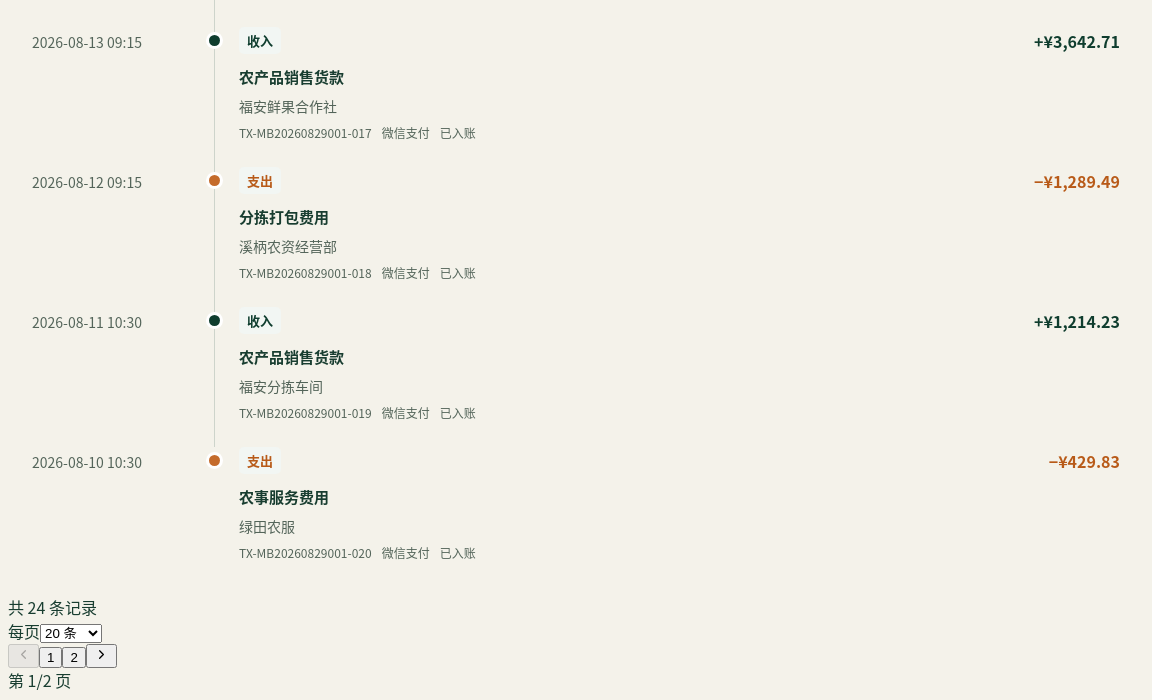
it: 会员收支列表交互 › 默认20条，下一页不显示序号，每页选项与全站一致
The width and height of the screenshot is (1152, 700).
Later steps or results of the test are not shown.
(page scrolled)
Click the button named "下一页". click: (101, 656)
box: [86, 644, 117, 668]
(page scrolled)
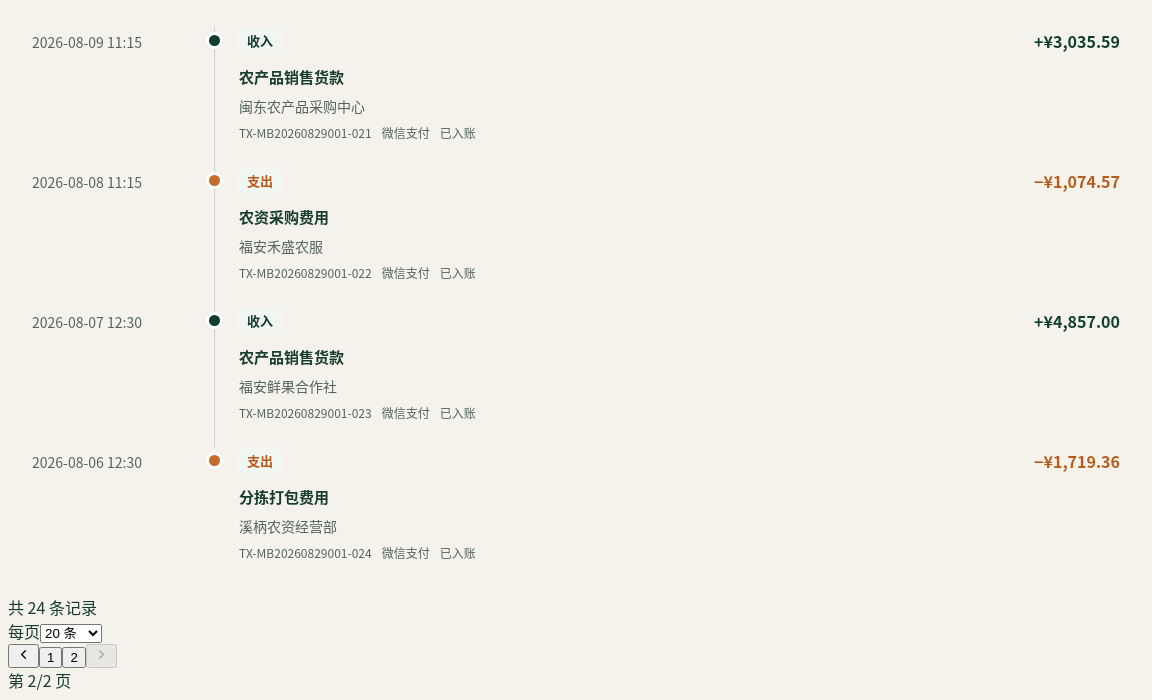
Result: the number of list items is 4 at [32, 27, 1120, 167]; [32, 167, 1120, 307]; [32, 307, 1120, 447]; [32, 447, 1120, 587]
